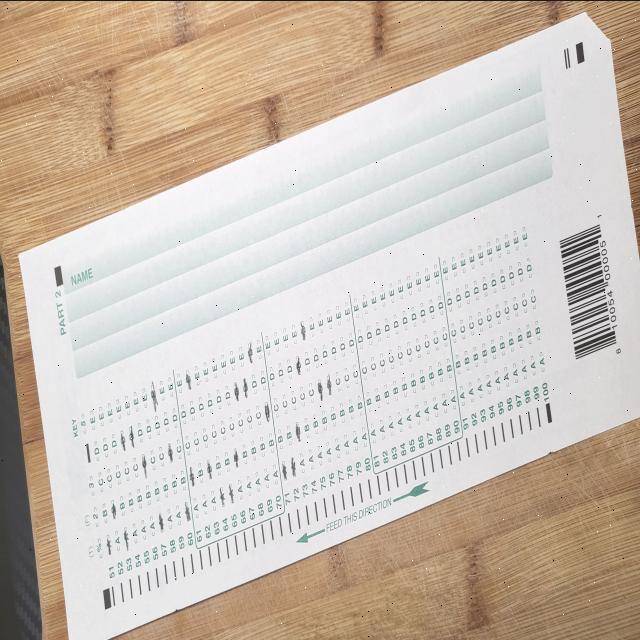scantron_back: (17, 11, 639, 640)
